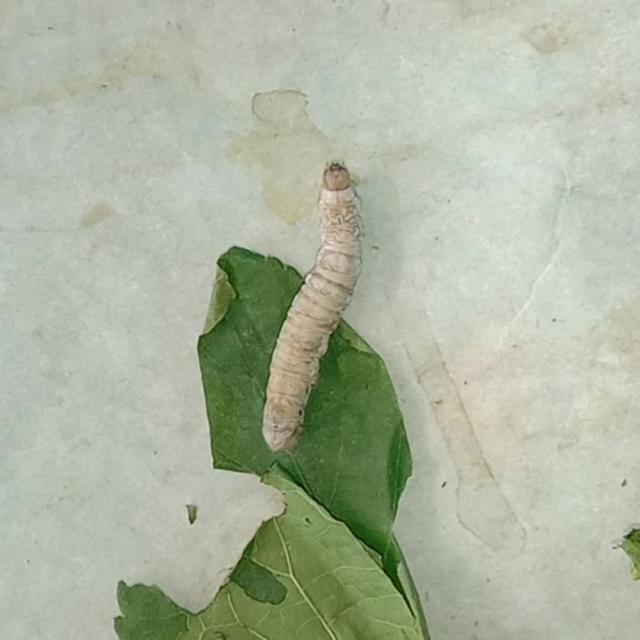Grasserie: (236, 118, 414, 484)
